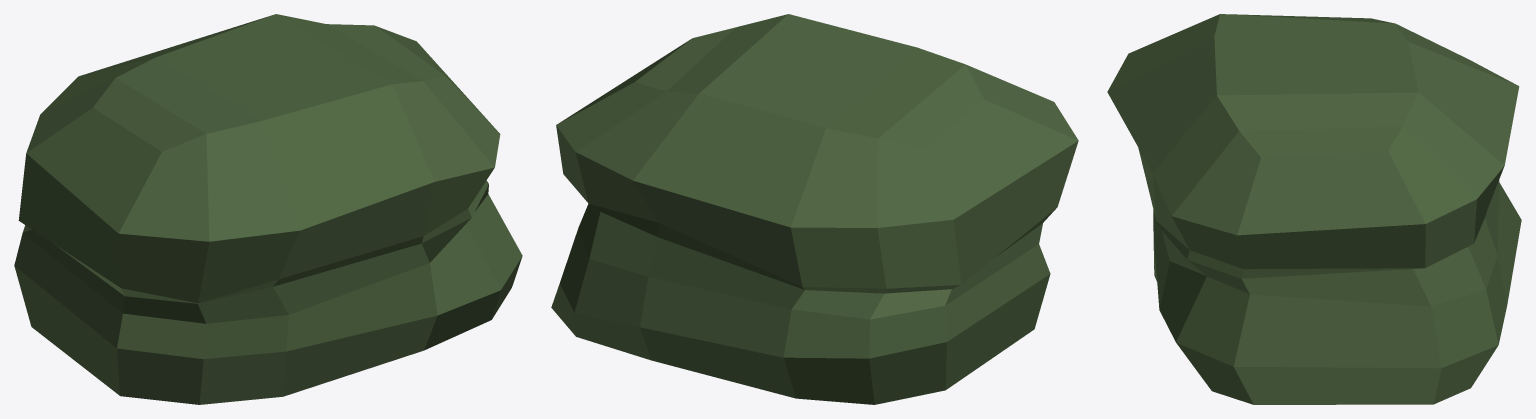
File: BushBerries_3.glb
The picture shows the model from 3 angles, left to right: view 1: azimuth 30°, elevation 25°; view 2: azimuth 150°, elevation 25°; view 3: azimuth 270°, elevation 25°; orthographic projection. The views are drawn at different scales.
Visible parts, largest first — view 1: BushBerries_3.obj; view 2: BushBerries_3.obj; view 3: BushBerries_3.obj.
Part boxes in pixels (bbox=[...]): BushBerries_3.obj: bbox=[14, 14, 522, 404]; BushBerries_3.obj: bbox=[551, 14, 1078, 404]; BushBerries_3.obj: bbox=[1107, 14, 1521, 404].
Size of the model in its own units: 1.27 by 0.7438 by 1.11.
